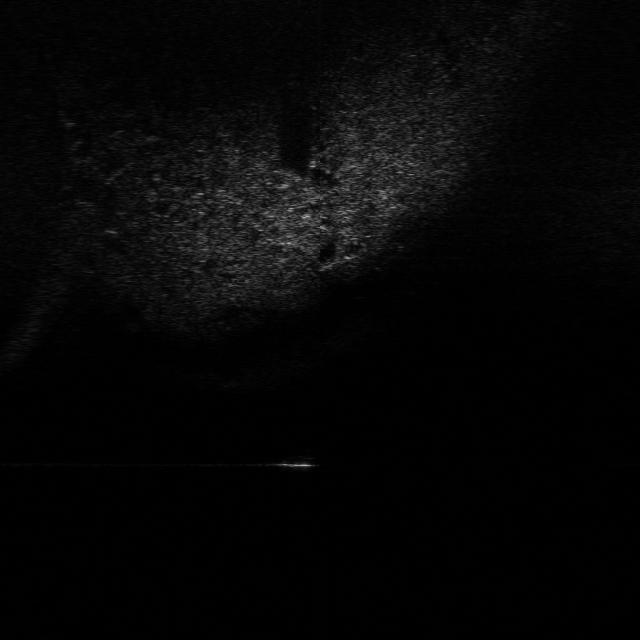cube: (273, 447, 322, 473)
